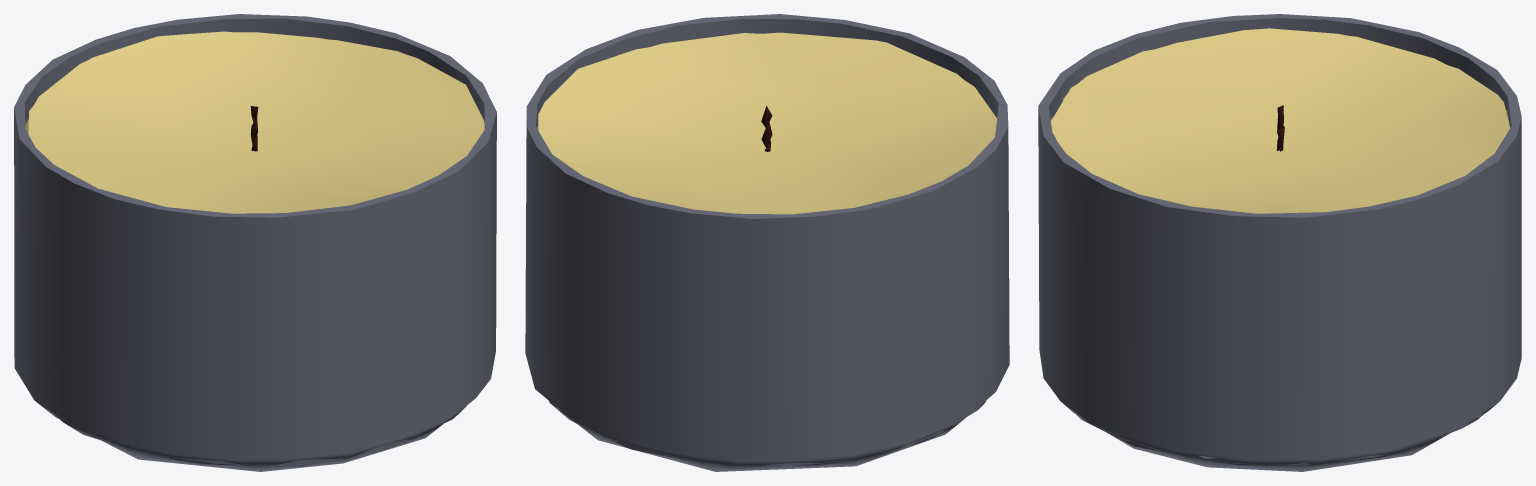
Rendered from candlesilindir piv cor.fbx.
3 views of the same model, side by side, from view 1: azimuth 30°, elevation 25°; view 2: azimuth 150°, elevation 25°; view 3: azimuth 270°, elevation 25° (orthographic).
Visible parts, largest first — view 1: polySurface2; view 2: polySurface2; view 3: polySurface2.
Boxes of the visible parts, x1=… form: polySurface2: x1=14, y1=14, x2=496, y2=471; polySurface2: x1=525, y1=14, x2=1009, y2=471; polySurface2: x1=1038, y1=14, x2=1521, y2=471.
Bounding box in the file's own units: 10.21 × 6.39 × 10.24.
